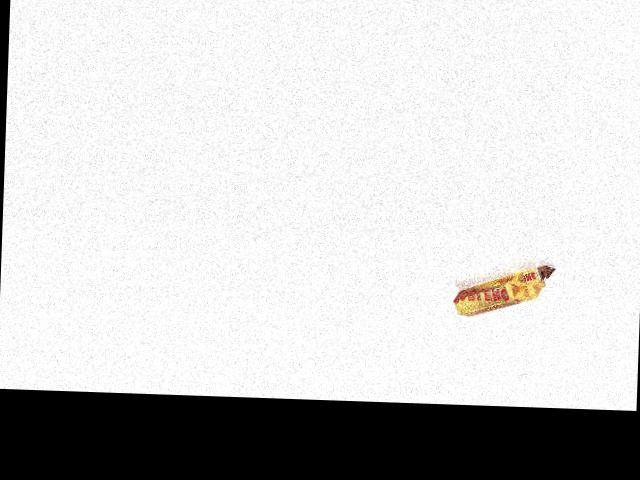chocolate: (453, 257, 555, 321)
